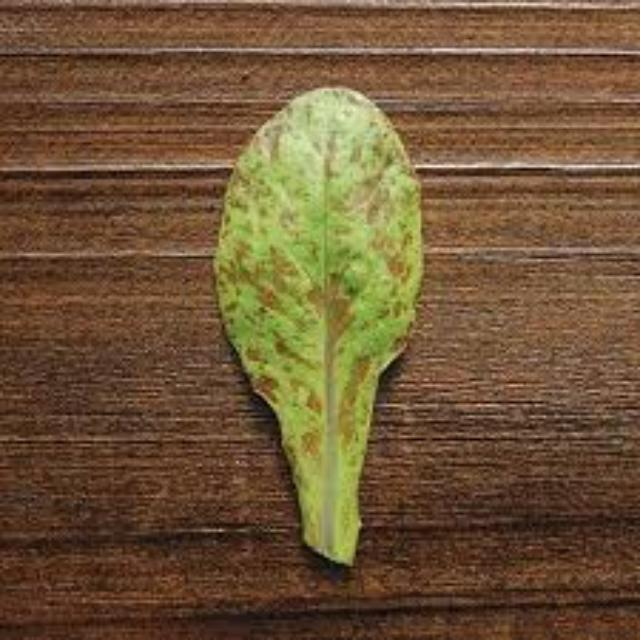Lettuce - Anthracnose: (214, 89, 424, 576)
